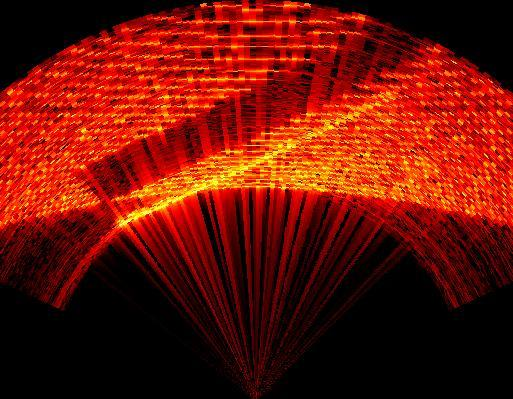pipe: (79, 28, 433, 229)
